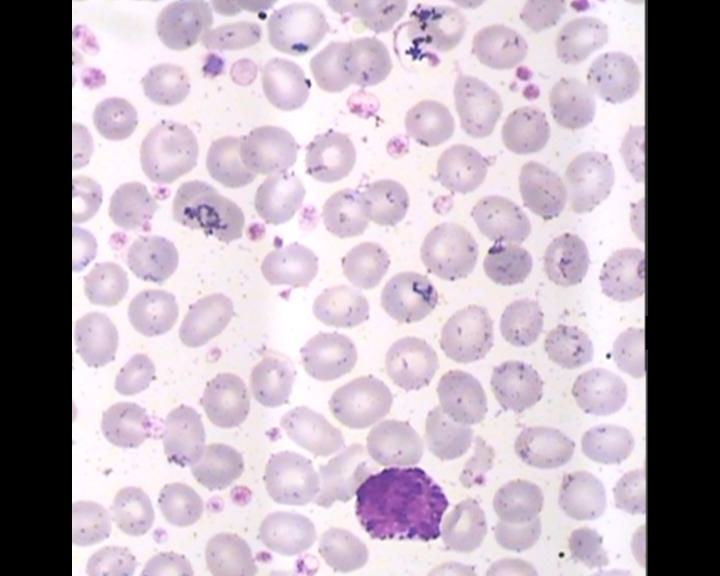baso: (350, 462, 456, 546)
